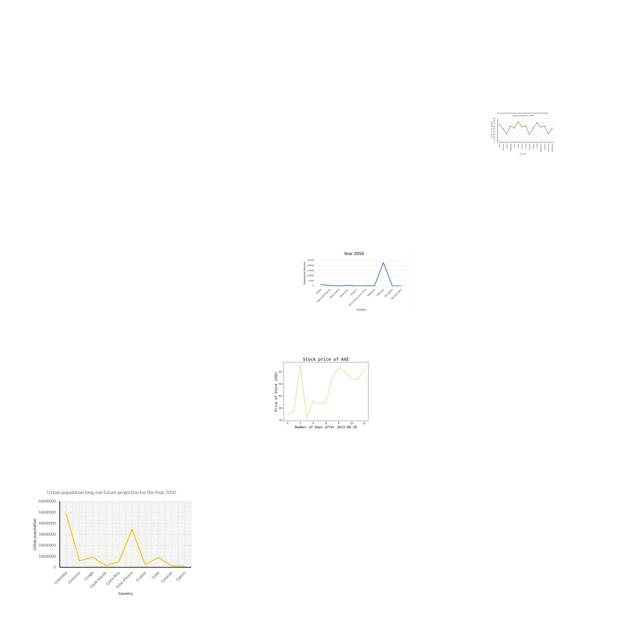Graph: (30, 487, 195, 598), (270, 350, 379, 432), (299, 248, 409, 315), (489, 110, 555, 156)
